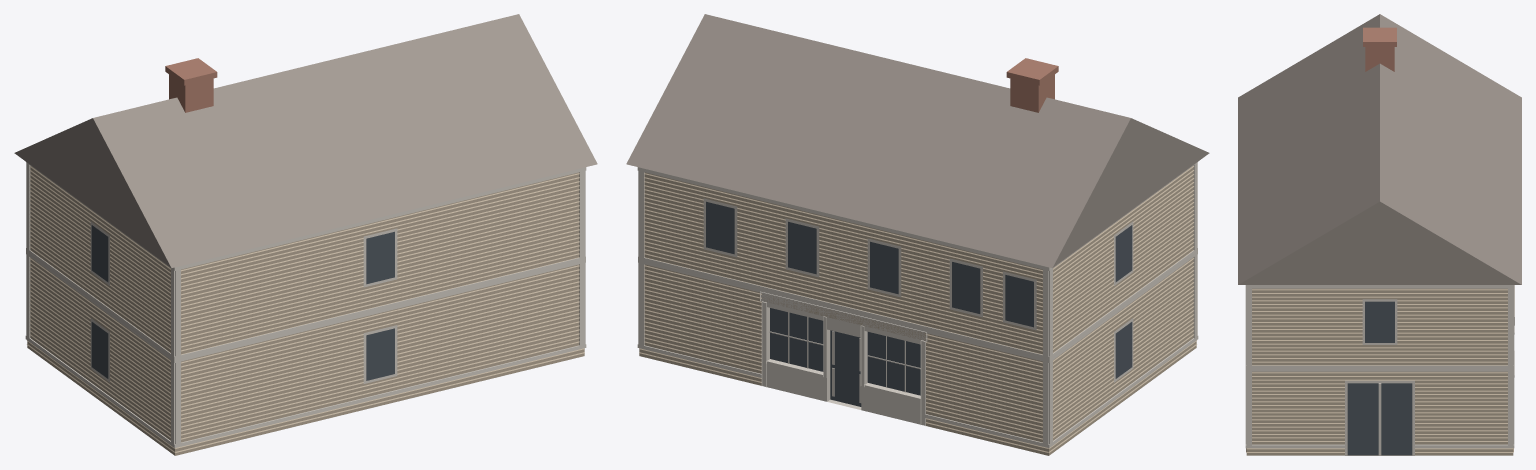
File: thomas_church_store__frame_1834.glb
3 renders of one model, left to right at view 1: azimuth 30°, elevation 25°; view 2: azimuth 150°, elevation 25°; view 3: azimuth 270°, elevation 25°, orthographic. The views are drawn at different scales.
Visible parts, largest first — view 1: thomas_church_store__frame_1834; view 2: thomas_church_store__frame_1834; view 3: thomas_church_store__frame_1834.
Boxes of the visible parts, x1,y1,x2,y2 form: thomas_church_store__frame_1834: (14, 14, 597, 455); thomas_church_store__frame_1834: (626, 14, 1209, 455); thomas_church_store__frame_1834: (1238, 14, 1521, 455).
Bounding box in the file's own units: 12.69 × 8.85 × 8.12.
